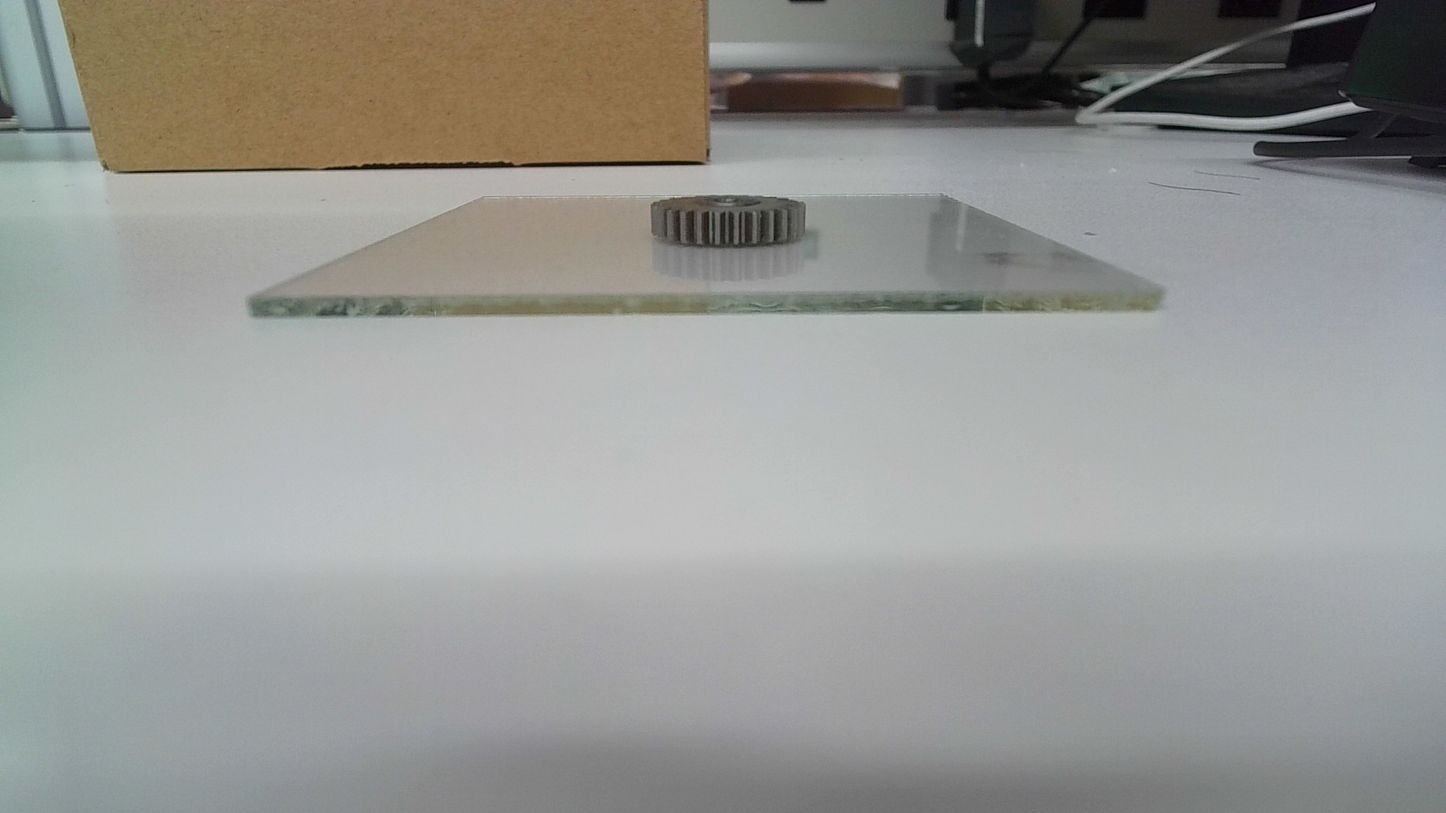gear: (648, 193, 809, 250)
